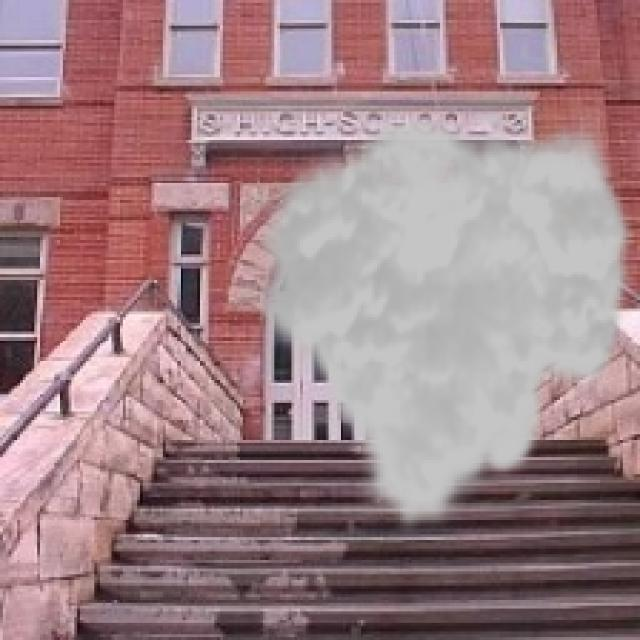smoke: (249, 111, 637, 540)
